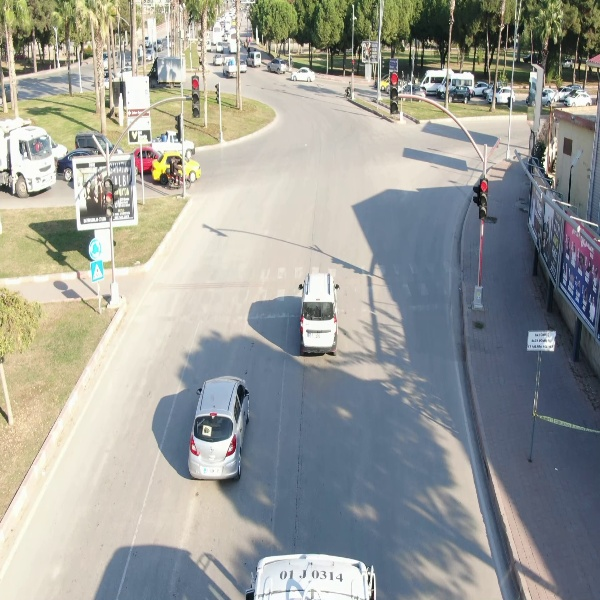car: (185, 373, 253, 484), (296, 270, 341, 360), (561, 88, 594, 108), (447, 85, 474, 106), (288, 66, 317, 84), (265, 58, 288, 74), (245, 50, 264, 68)
